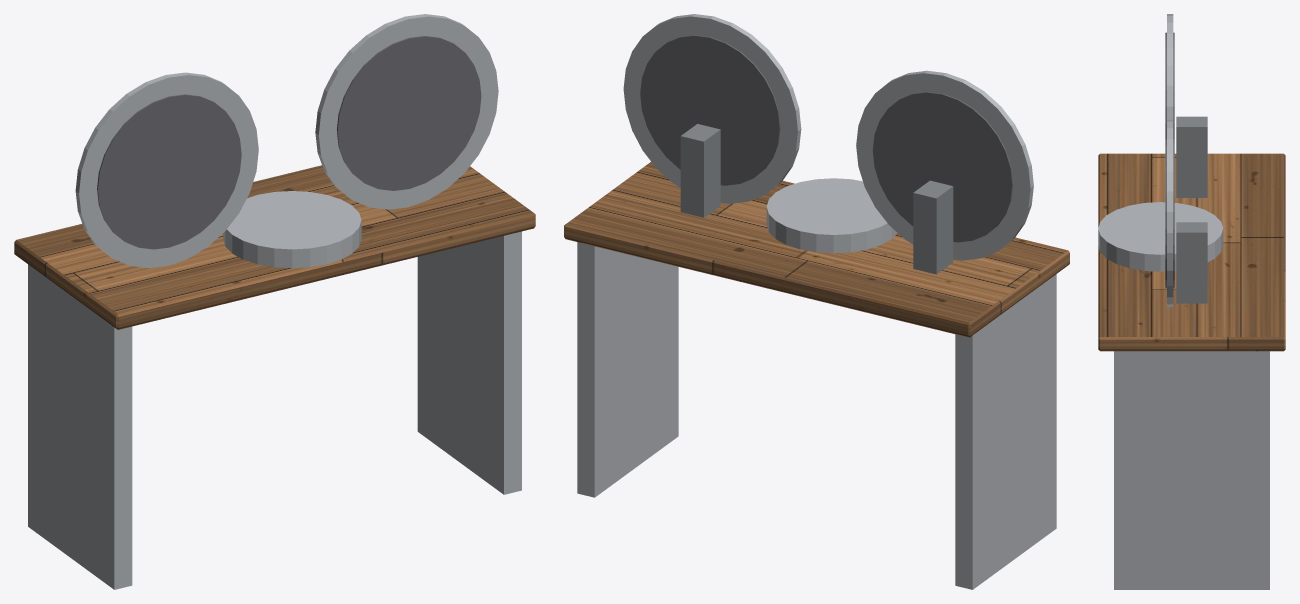
The model's file is rewind_bench.glb.
The picture shows the model from 3 angles, left to right: view 1: azimuth 30°, elevation 25°; view 2: azimuth 150°, elevation 25°; view 3: azimuth 270°, elevation 25°; orthographic projection. The views are drawn at different scales.
Parts seen in each view (by area): view 1: rewind_bench_steel, rewind_bench_film, rewind_bench_wood; view 2: rewind_bench_steel, rewind_bench_wood, rewind_bench_film, rewind_bench_steel_d; view 3: rewind_bench_steel, rewind_bench_wood, rewind_bench_steel_d, rewind_bench_film.
Boxes of the visible parts, x1=… form: rewind_bench_steel: x1=28, y1=14, x2=521, y2=589; rewind_bench_film: x1=97, y1=36, x2=481, y2=249; rewind_bench_wood: x1=14, y1=165, x2=535, y2=329; rewind_bench_steel: x1=577, y1=14, x2=1056, y2=589; rewind_bench_wood: x1=564, y1=162, x2=1069, y2=337; rewind_bench_film: x1=640, y1=35, x2=1012, y2=242; rewind_bench_steel_d: x1=680, y1=124, x2=953, y2=274; rewind_bench_steel: x1=1098, y1=14, x2=1269, y2=589; rewind_bench_wood: x1=1098, y1=153, x2=1285, y2=351; rewind_bench_steel_d: x1=1176, y1=116, x2=1207, y2=303; rewind_bench_film: x1=1165, y1=32, x2=1174, y2=288.
Size of the model in its own units: 1.4 by 1.5 by 0.6.
Materials: 4 (1 with a texture image).
